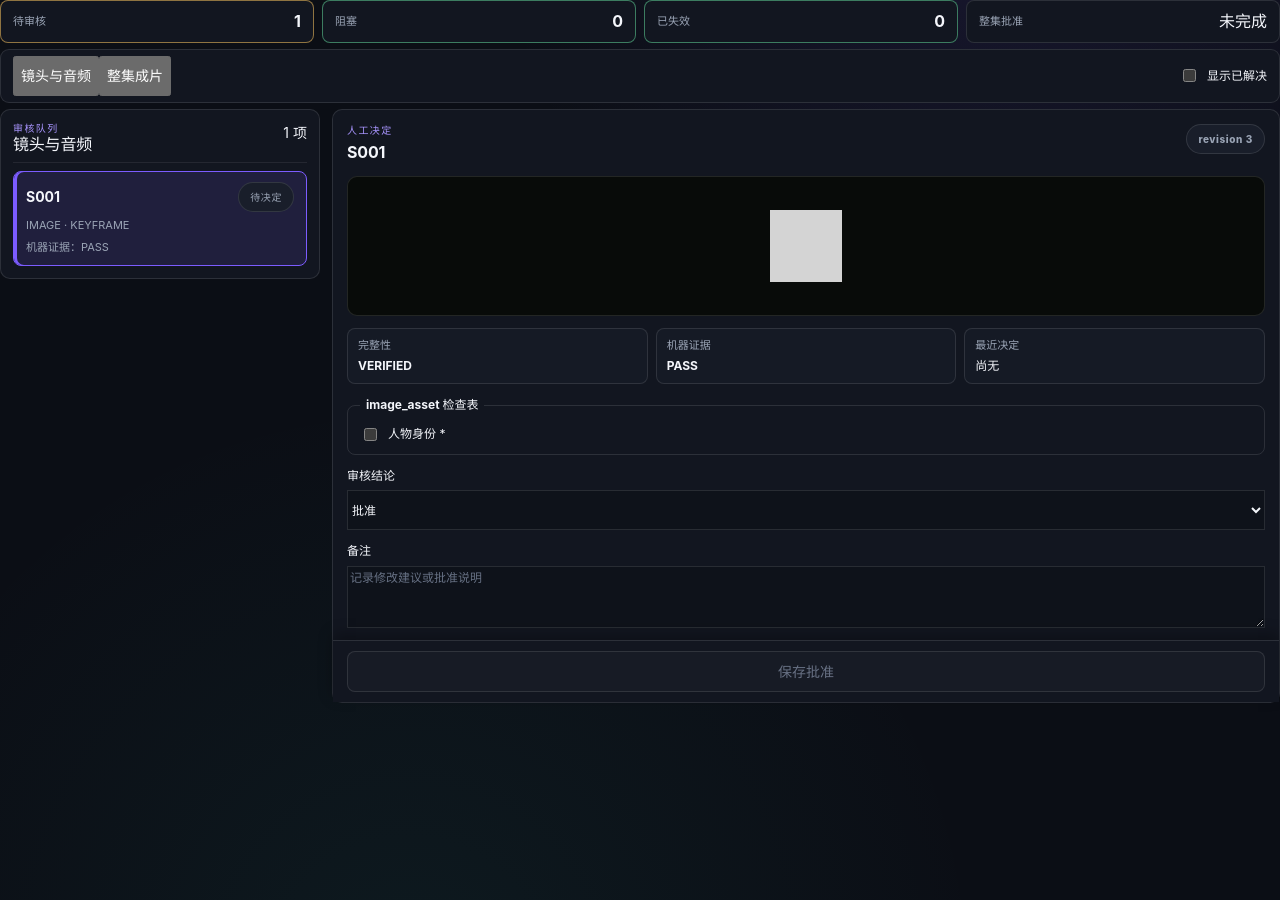
Test case: EpisodeReviewWorkspace v2 › requires the structured checklist before approving and writes through v2
Check: the button "保存批准" is disabled, box [347, 651, 1265, 692]
Click the checkbox labelled "人物身份 *".
click(370, 434)  # box [364, 428, 377, 441]
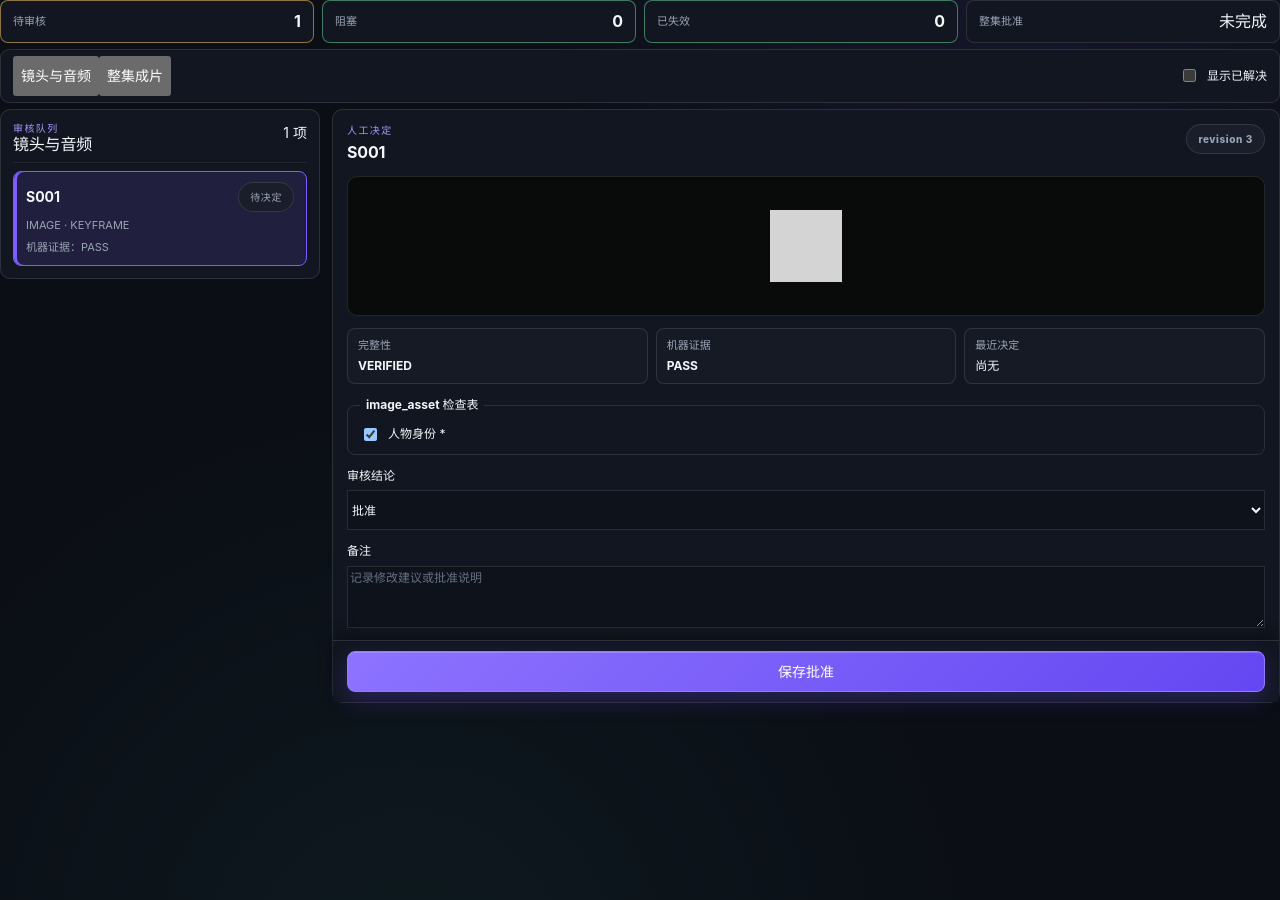
Check: the button "保存批准" is enabled
Click the button "保存批准".
click(806, 672)  # box [347, 651, 1265, 692]
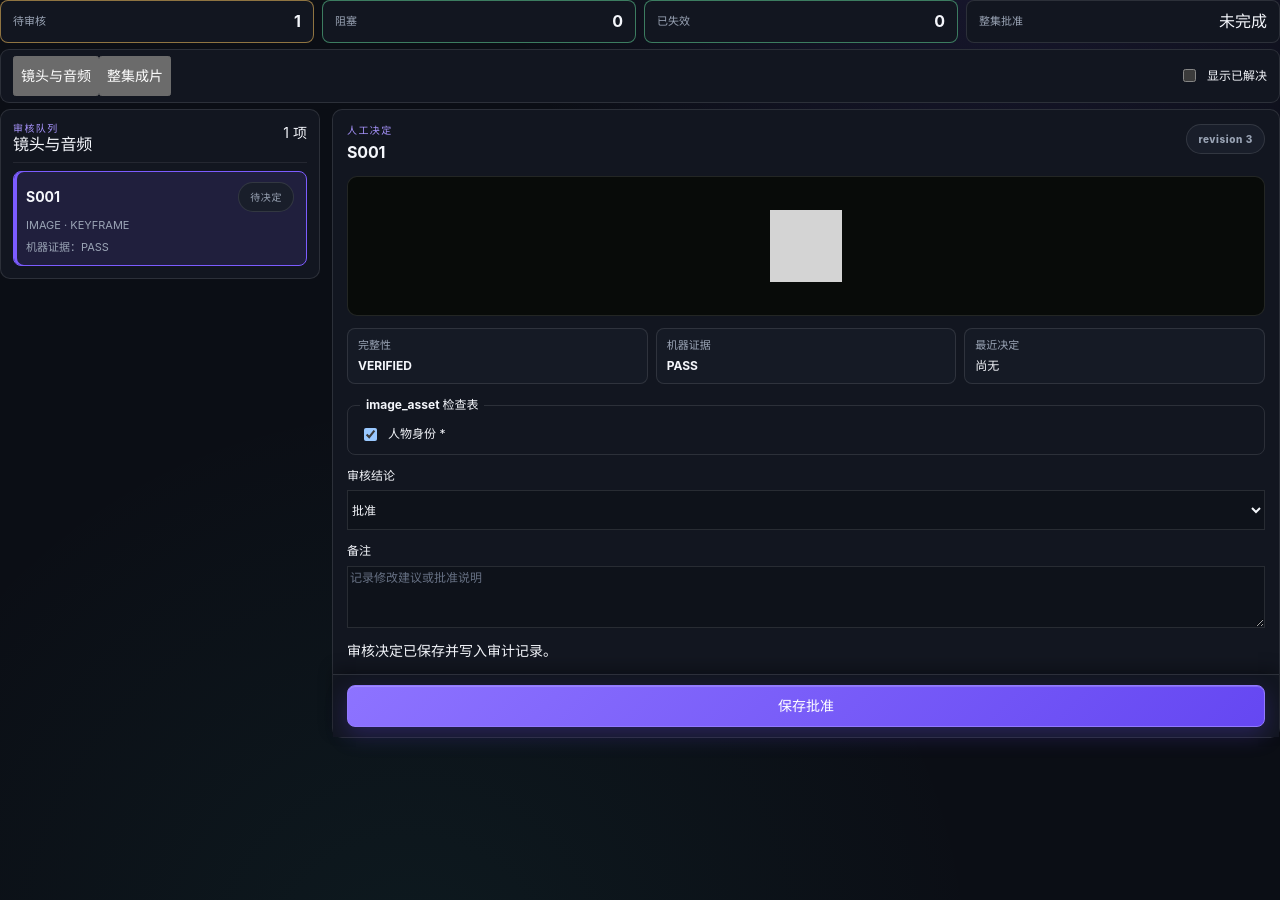
Check: the text "审核决定已保存并写入审计记录。" is shown, box [347, 642, 557, 659]
